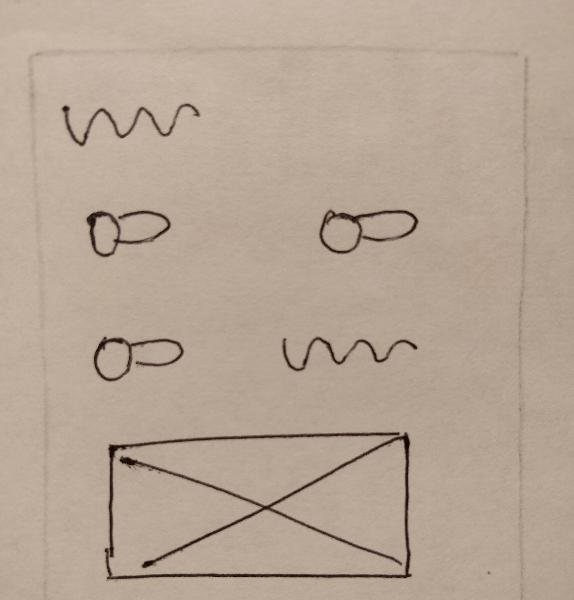image: (91, 419, 422, 587)
switch: (307, 187, 427, 270), (78, 322, 192, 389), (74, 201, 178, 262)
text: (269, 318, 427, 385), (52, 90, 207, 148)
